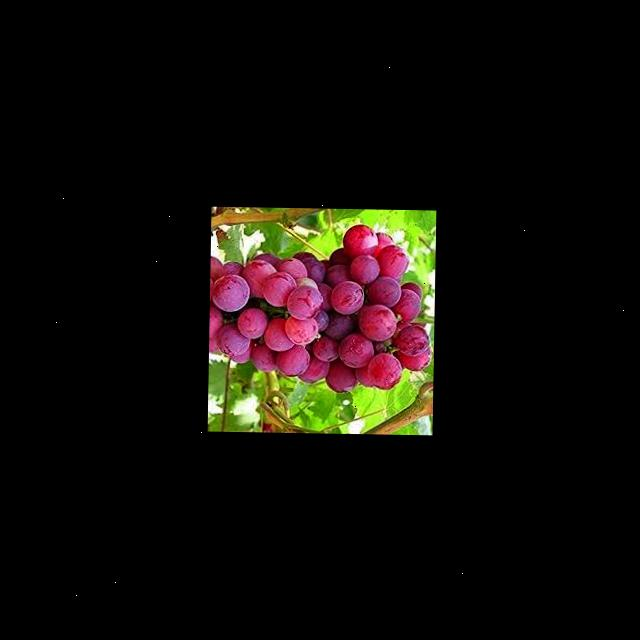grape: (207, 222, 433, 394)
